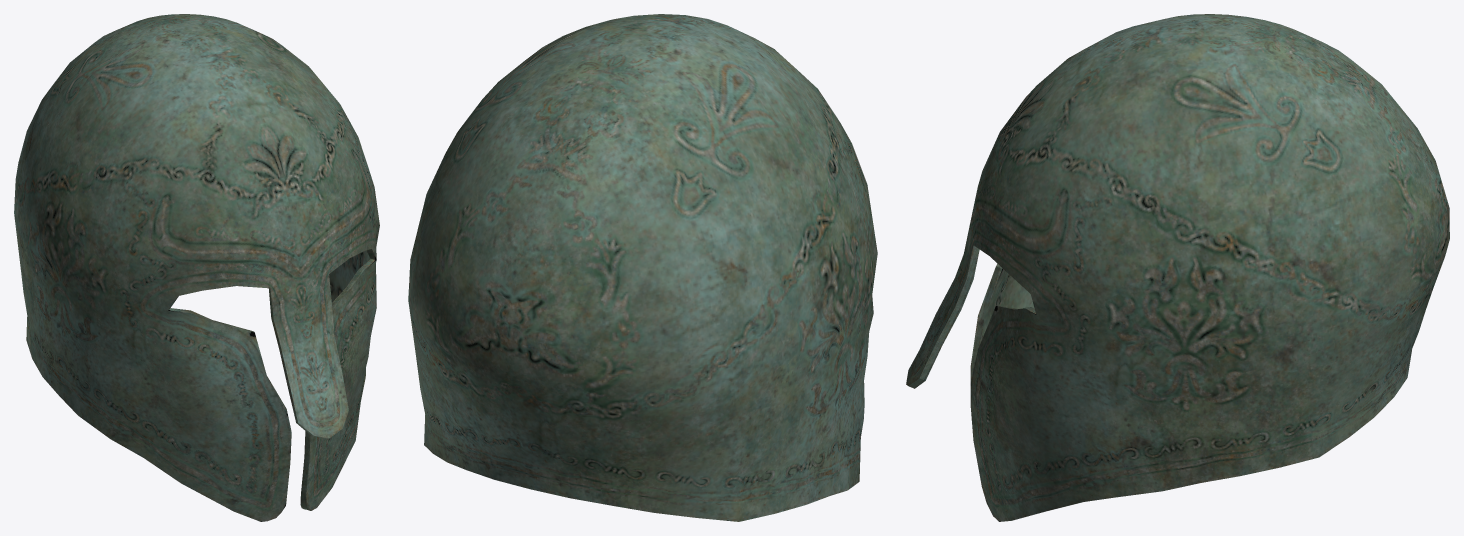
Rendered from Corinthian_Helmet.fbx.
The picture shows the model from 3 angles, left to right: view 1: azimuth 30°, elevation 25°; view 2: azimuth 150°, elevation 25°; view 3: azimuth 270°, elevation 25°; orthographic projection. The views are drawn at different scales.
Visible parts, largest first — view 1: Corinthian_Helmet.LP; view 2: Corinthian_Helmet.LP; view 3: Corinthian_Helmet.LP.
Part boxes in pixels (bbox=[...]): Corinthian_Helmet.LP: bbox=[14, 14, 379, 521]; Corinthian_Helmet.LP: bbox=[408, 14, 877, 521]; Corinthian_Helmet.LP: bbox=[906, 14, 1449, 521].
Size of the model in its own units: 20.17 by 26.74 by 27.63.
